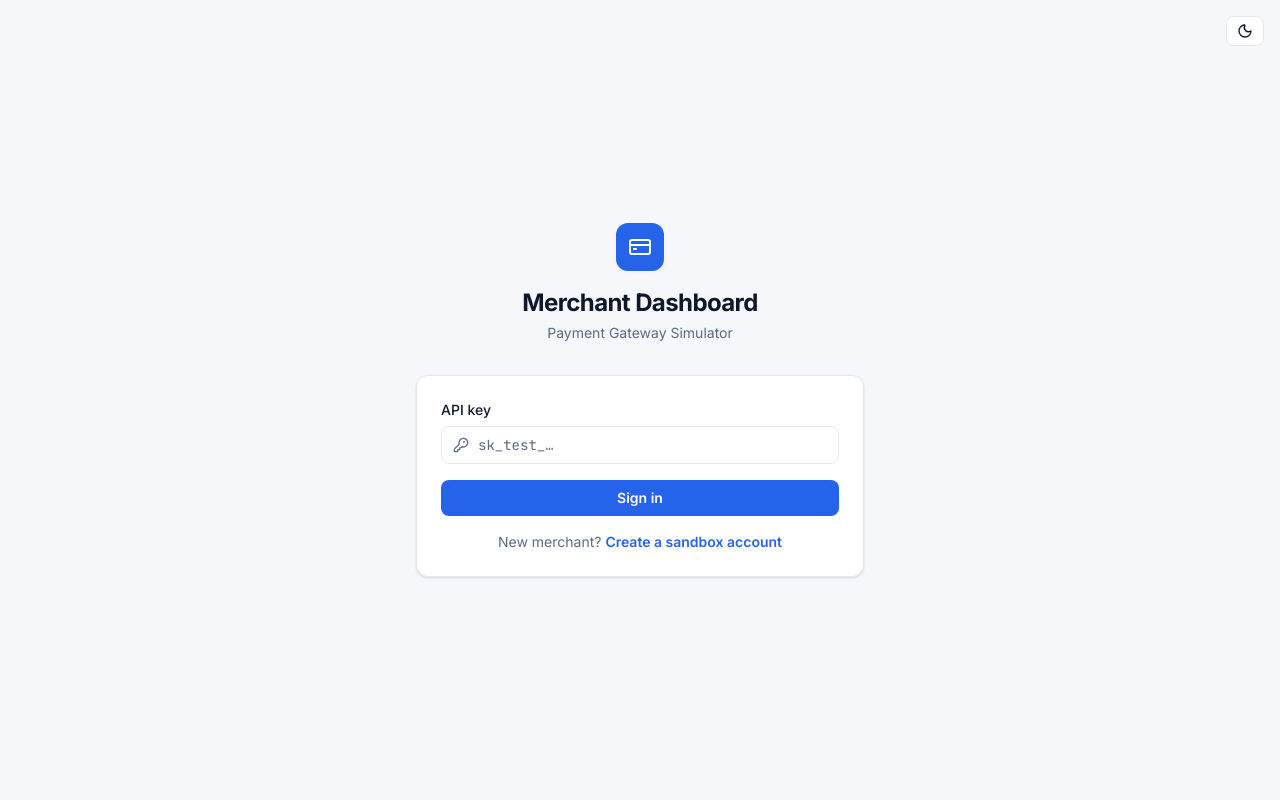
Test: login › signs in with a valid key and lands on the overview
Type "sk_test_demo_kedaikopi_cyberjaya" into the password field labelled "API key" at coordinates (640, 445), box [441, 426, 839, 464]
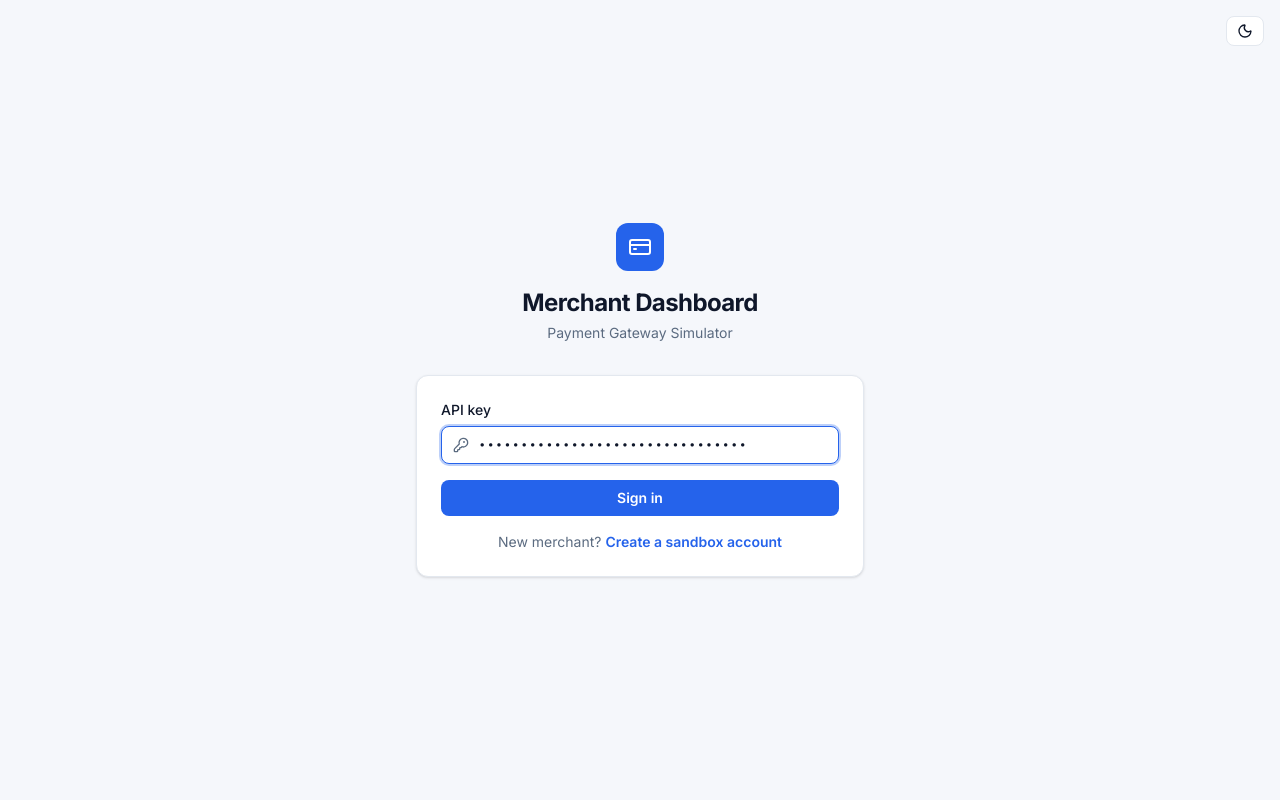
Click the button "Sign in" at coordinates (640, 498), box [441, 480, 839, 516]
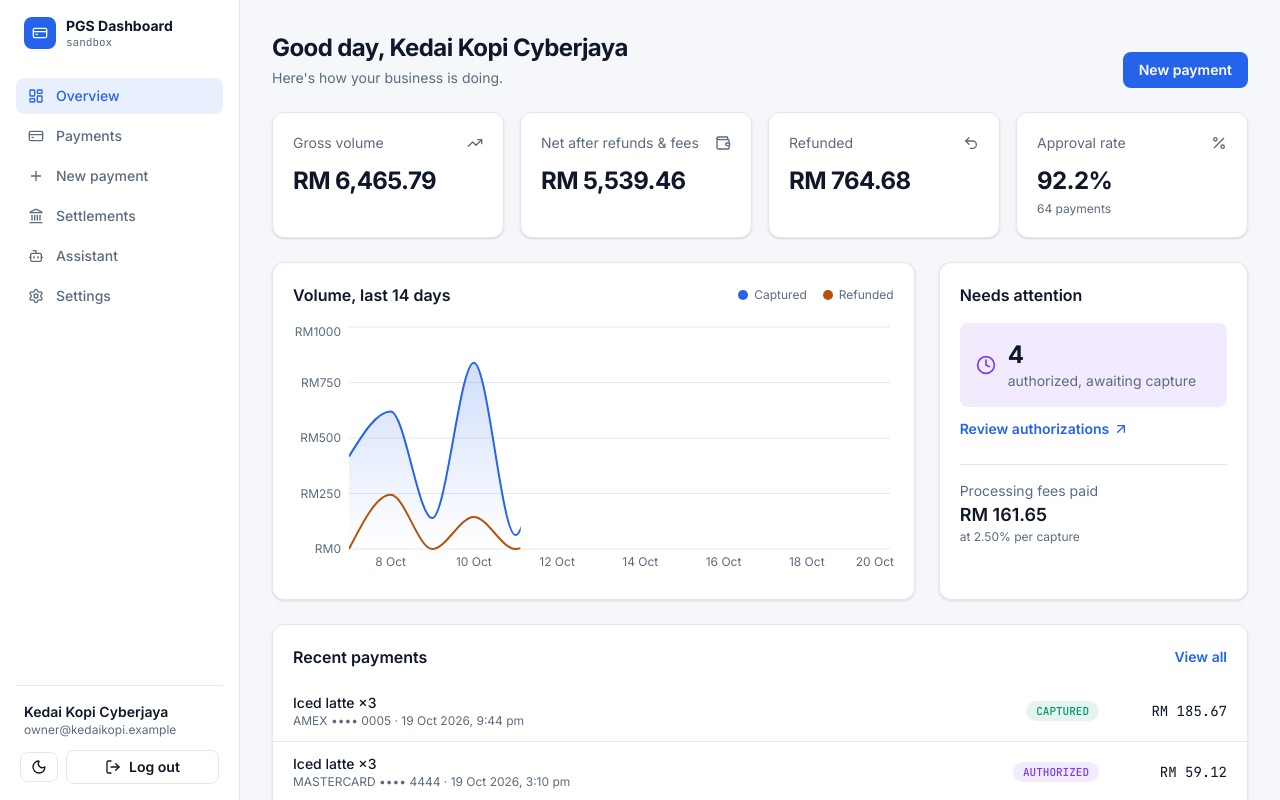
Result: the heading "Good day, Kedai Kopi Cyberjaya" is shown at [272, 32, 628, 64]
